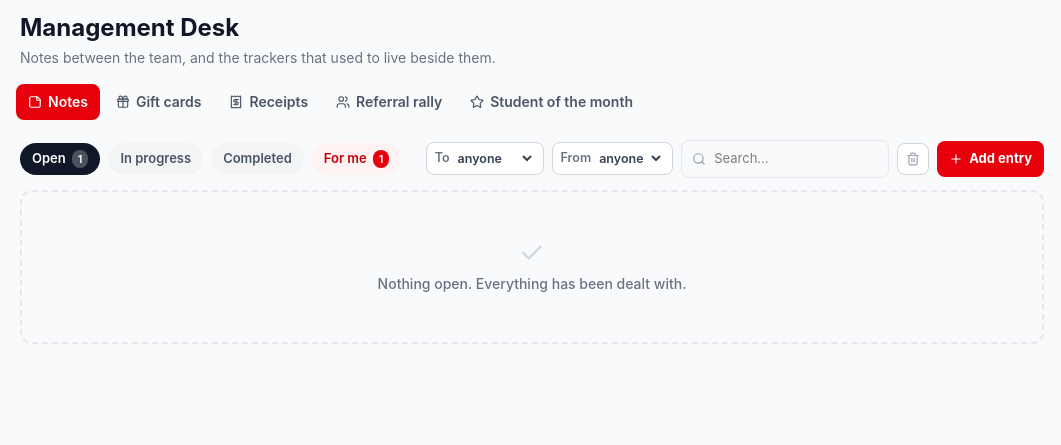
Test: the chain › greys a settled note but leaves it in the chain under Completed
This screenshot has width=1061, height=445.
Click the button "Completed": (257, 159) [211,143,304,174]
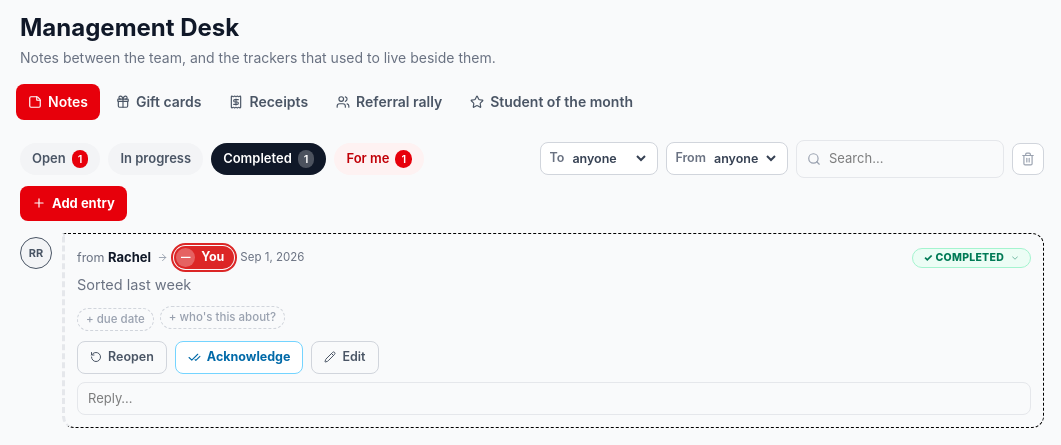
Check: the text "Sorted last week" is shown, box [77,276,191,293]
Check: the button "Reopen" is shown, box [77,341,167,374]
